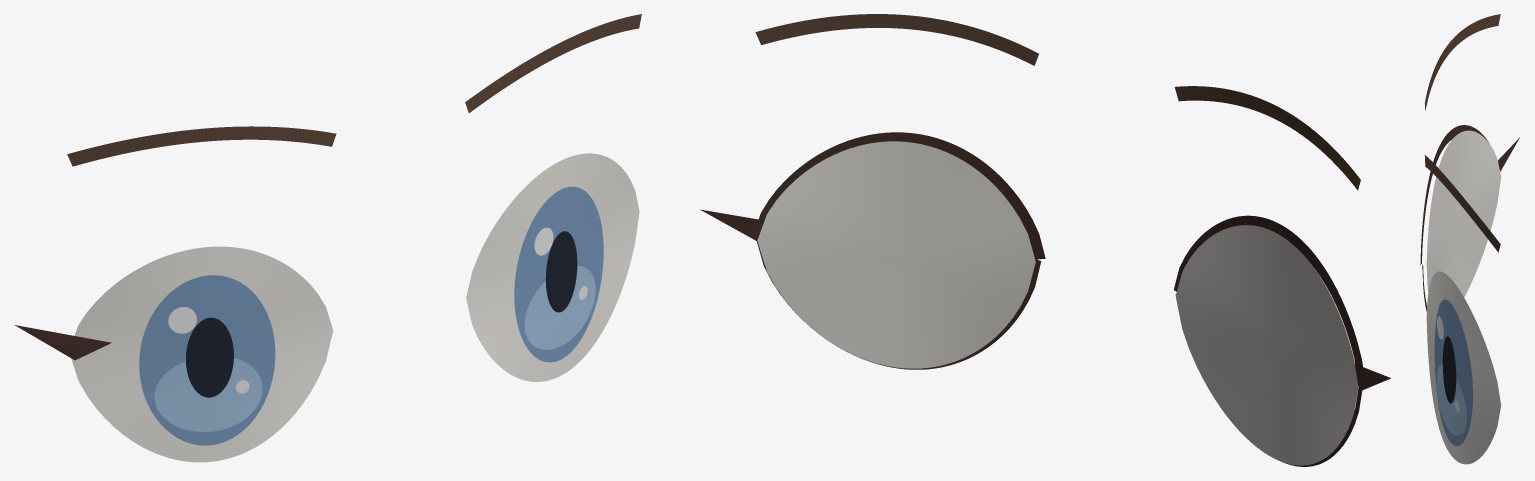
The picture shows the model from 3 angles, left to right: view 1: azimuth 30°, elevation 25°; view 2: azimuth 150°, elevation 25°; view 3: azimuth 270°, elevation 25°; orthographic projection. The views are drawn at different scales.
Visible parts, largest first — view 1: Eye_White_-1, Eye_White_1, Eye_Iris_-1, Eye_Iris_1, Eye_Iris_Light_-1, Eyebrow_-1, Eye_Iris_Light_1, Eye_Pupil_-1, Eyebrow_1, Eye_Pupil_1, Eye_LashWing_-1; view 2: Eye_White_1, Eye_White_-1, Eyebrow_1, Eye_UpperLid_1, Eyebrow_-1, Eye_UpperLid_-1, Eye_LowerLid_1; view 3: Eye_White_-1, Eye_White_1, Eye_Iris_1, Eye_Iris_Light_1, Eyebrow_-1, Eyebrow_1, Eye_Pupil_1, Eye_UpperLid_-1, Eye_LashWing_-1, Eye_Glint_1_0.
Part boxes in pixels (x1=…): Eye_White_-1: x1=71, y1=246, x2=333, y2=462; Eye_White_1: x1=466, y1=153, x2=639, y2=381; Eye_Iris_-1: x1=139, y1=275, x2=275, y2=445; Eye_Iris_1: x1=514, y1=186, x2=603, y2=362; Eye_Iris_Light_-1: x1=154, y1=358, x2=262, y2=432; Eyebrow_-1: x1=67, y1=126, x2=336, y2=166; Eye_Iris_Light_1: x1=524, y1=265, x2=595, y2=349; Eye_Pupil_-1: x1=186, y1=317, x2=233, y2=397; Eyebrow_1: x1=465, y1=14, x2=641, y2=112; Eye_Pupil_1: x1=545, y1=231, x2=577, y2=312; Eye_LashWing_-1: x1=15, y1=325, x2=111, y2=360; Eye_White_1: x1=757, y1=141, x2=1035, y2=368; Eye_White_-1: x1=1175, y1=225, x2=1358, y2=465; Eyebrow_1: x1=755, y1=14, x2=1038, y2=65; Eye_UpperLid_1: x1=753, y1=132, x2=1045, y2=259; Eyebrow_-1: x1=1174, y1=86, x2=1360, y2=190; Eye_UpperLid_-1: x1=1174, y1=215, x2=1365, y2=385; Eye_LowerLid_1: x1=756, y1=239, x2=1041, y2=369; Eye_White_-1: x1=1426, y1=130, x2=1501, y2=297; Eye_White_1: x1=1426, y1=271, x2=1501, y2=464; Eye_Iris_1: x1=1434, y1=299, x2=1472, y2=446; Eye_Iris_Light_1: x1=1436, y1=364, x2=1466, y2=435; Eyebrow_-1: x1=1424, y1=14, x2=1500, y2=110; Eyebrow_1: x1=1424, y1=155, x2=1500, y2=252; Eye_Pupil_1: x1=1442, y1=336, x2=1456, y2=403; Eye_UpperLid_-1: x1=1420, y1=125, x2=1489, y2=264; Eye_LashWing_-1: x1=1498, y1=137, x2=1519, y2=171; Eye_Glint_1_0: x1=1437, y1=316, x2=1443, y2=339.
Size of the model in its own units: 0.396 by 0.1944 by 0.0637.
